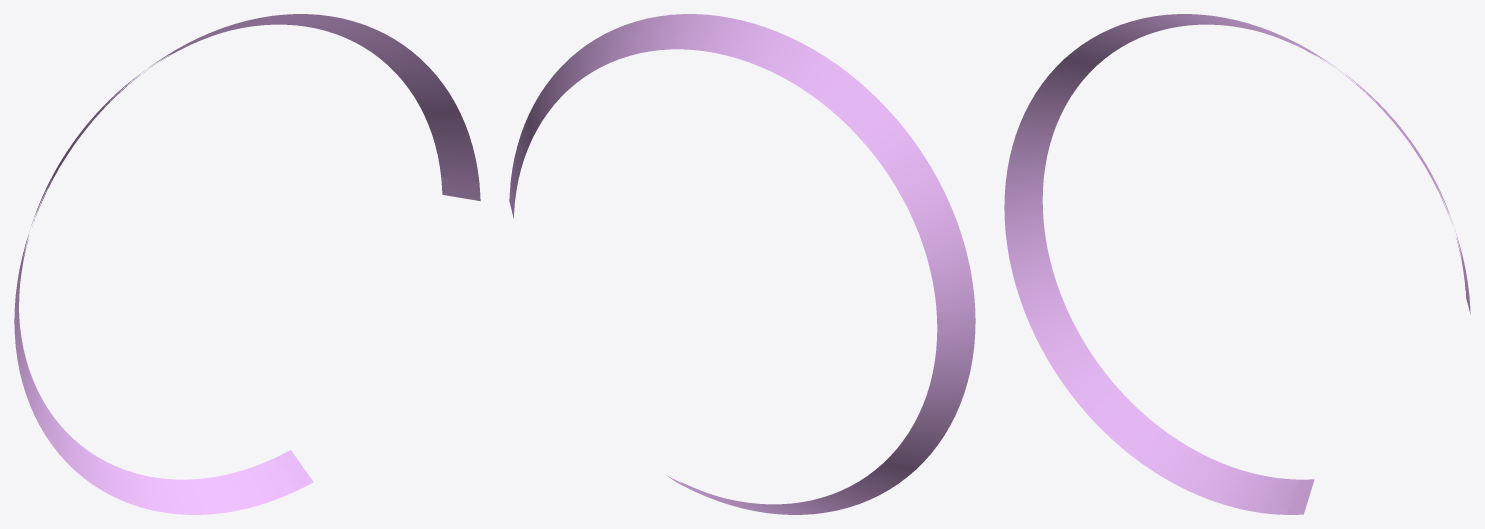
The model's file is Mesh_Note_48.fbx.
3 views of the same model, side by side, from view 1: azimuth 30°, elevation 25°; view 2: azimuth 150°, elevation 25°; view 3: azimuth 330°, elevation 25° (orthographic).
Parts seen in each view (by area): view 1: Mesh_Note_48; view 2: Mesh_Note_48; view 3: Mesh_Note_48.
Boxes of the visible parts, bbox=[...] form: Mesh_Note_48: bbox=[14, 14, 480, 514]; Mesh_Note_48: bbox=[509, 14, 975, 514]; Mesh_Note_48: bbox=[1004, 14, 1470, 514].
Bounding box in the file's own units: 3.56 × 3.56 × 0.2235.
